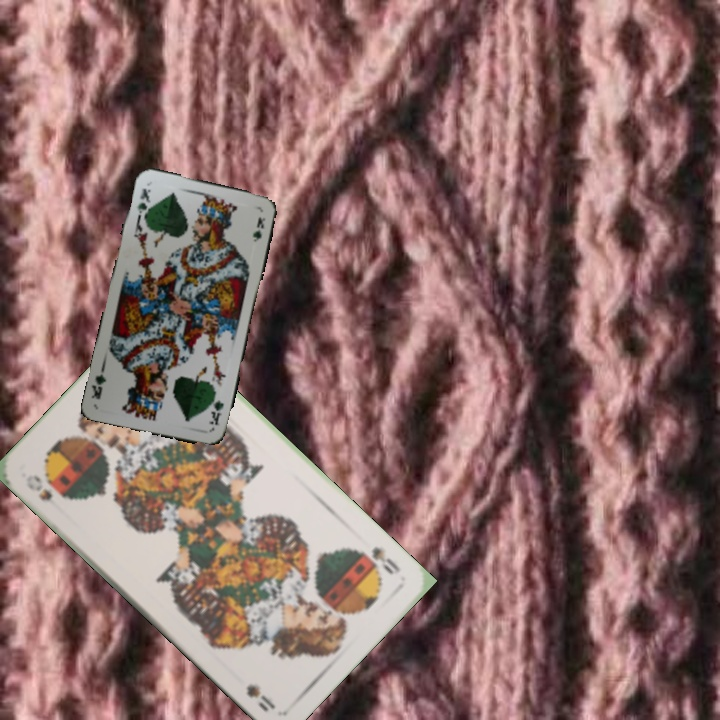GK: (205, 390, 226, 428), (133, 184, 153, 221)
SO: (21, 470, 70, 504), (367, 542, 403, 578)
